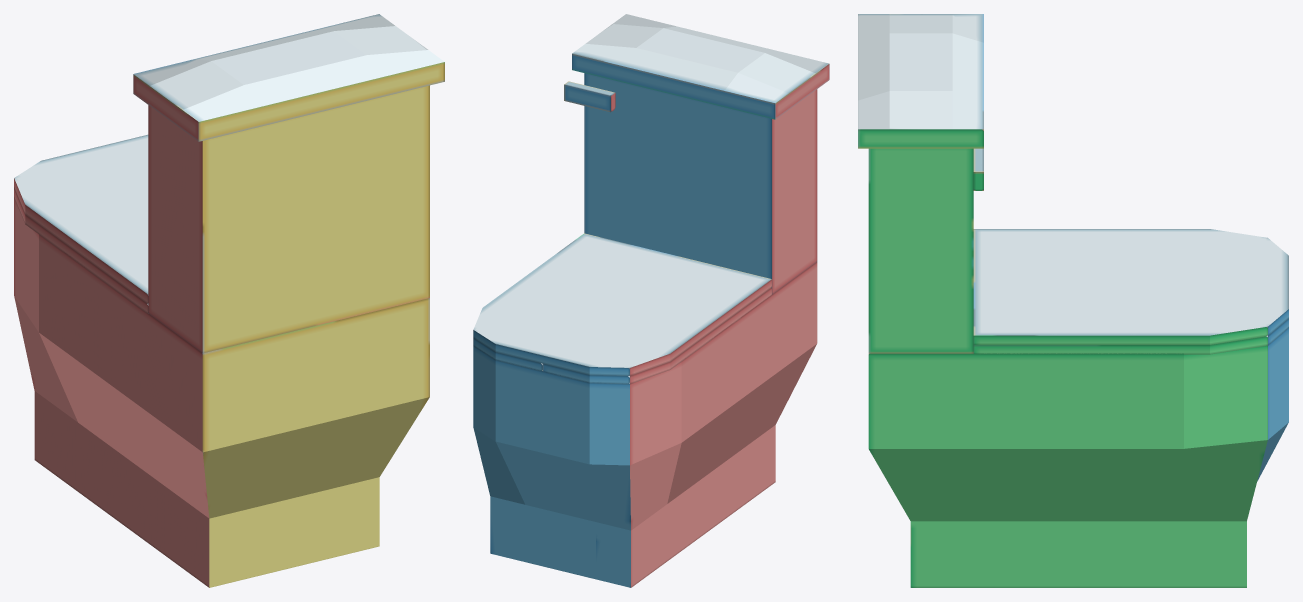
The model's file is Inodoro.fbx.
3 views of the same model, side by side, from view 1: azimuth 30°, elevation 25°; view 2: azimuth 150°, elevation 25°; view 3: azimuth 270°, elevation 25° (orthographic). The views are drawn at different scales.
Visible parts, largest first — view 1: cube, cube_5, cube_1, cube_2, cube_3; view 2: cube, cube_5, cube_2, cube_1, cube_3, cube_6, cube_4; view 3: cube, cube_2, cube_5, cube_1, cube_4.
Part boxes in pixels (bbox=[...]): cube: bbox=[14, 198, 429, 587]; cube_5: bbox=[148, 85, 429, 353]; cube_1: bbox=[133, 14, 444, 141]; cube_2: bbox=[14, 134, 148, 303]; cube_3: bbox=[14, 188, 148, 313]; cube: bbox=[473, 262, 817, 587]; cube_5: bbox=[584, 73, 817, 294]; cube_2: bbox=[473, 233, 771, 375]; cube_1: bbox=[572, 14, 829, 119]; cube_3: bbox=[542, 288, 771, 384]; cube_6: bbox=[564, 81, 615, 112]; cube_4: bbox=[473, 338, 542, 370]; cube: bbox=[868, 327, 1288, 587]; cube_2: bbox=[973, 229, 1288, 344]; cube_5: bbox=[868, 148, 973, 353]; cube_1: bbox=[858, 14, 983, 148]; cube_4: bbox=[973, 318, 1288, 354].
Bounding box in the file's own units: 84.38 × 159 × 128.
Materials: 1 (1 with a texture image).
